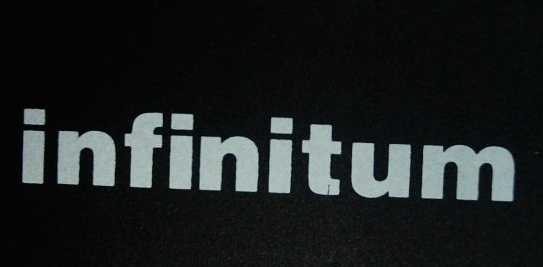BK_infinitum: (17, 102, 515, 206)
